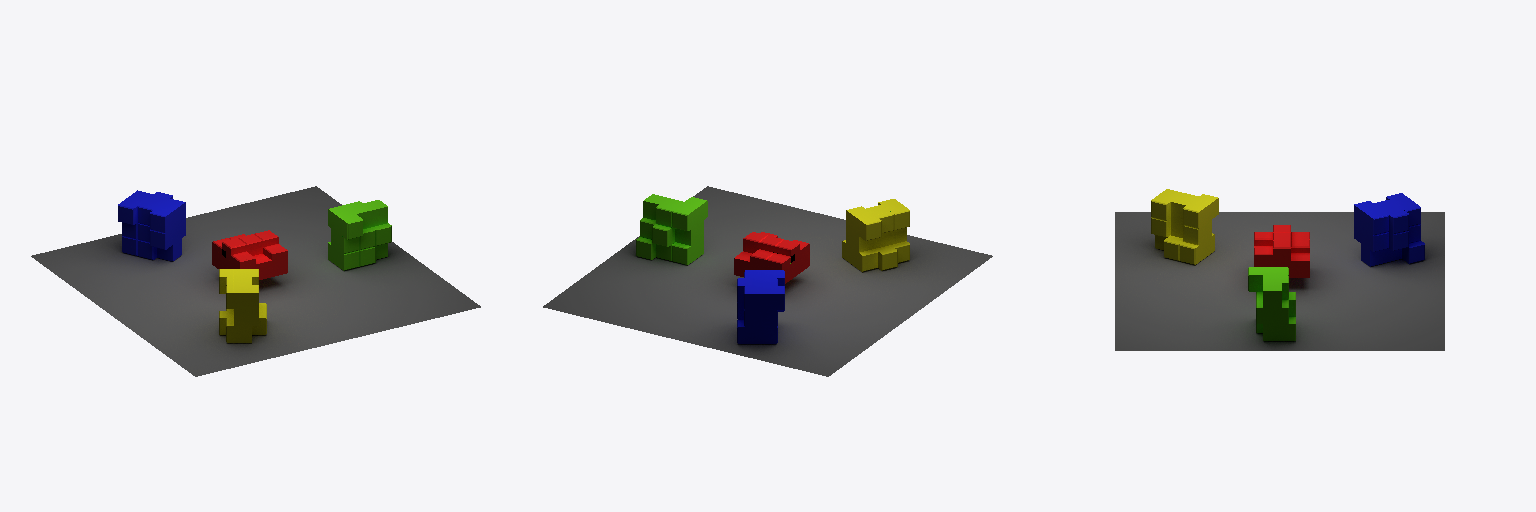
The picture shows the model from 3 angles: view 1: azimuth 30°, elevation 25°; view 2: azimuth 150°, elevation 25°; view 3: azimuth 270°, elevation 25°; orthographic projection.
Parts seen in each view (by area): view 1: object_5.007; view 2: object_5.007; view 3: object_5.007.
Boxes of the visible parts, x1,y1,x2,y2 form: object_5.007: [31, 186, 480, 376]; object_5.007: [543, 186, 992, 376]; object_5.007: [1115, 189, 1444, 350].
Size of the model in its own units: 89.3 by 15.25 by 89.3.
Materials: 2 (2 with a texture image).